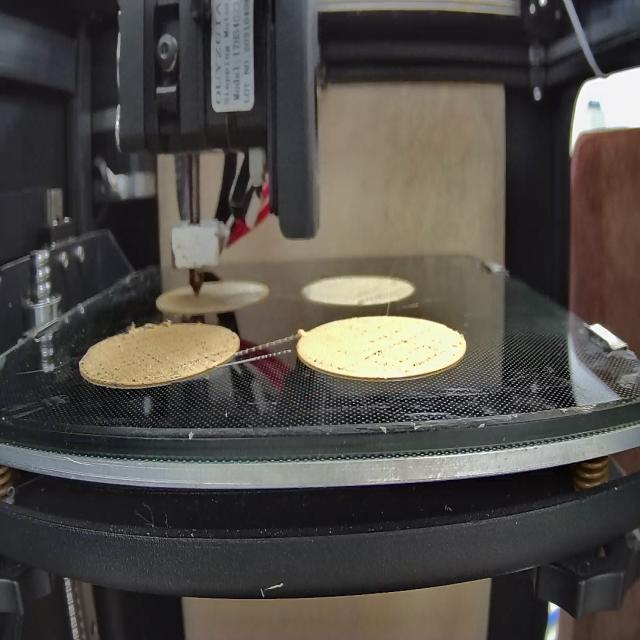under_extrusion: (363, 328, 440, 372), (97, 343, 174, 382), (179, 350, 229, 372), (311, 353, 348, 378)
